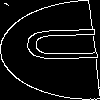U: (25, 25, 100, 63)
